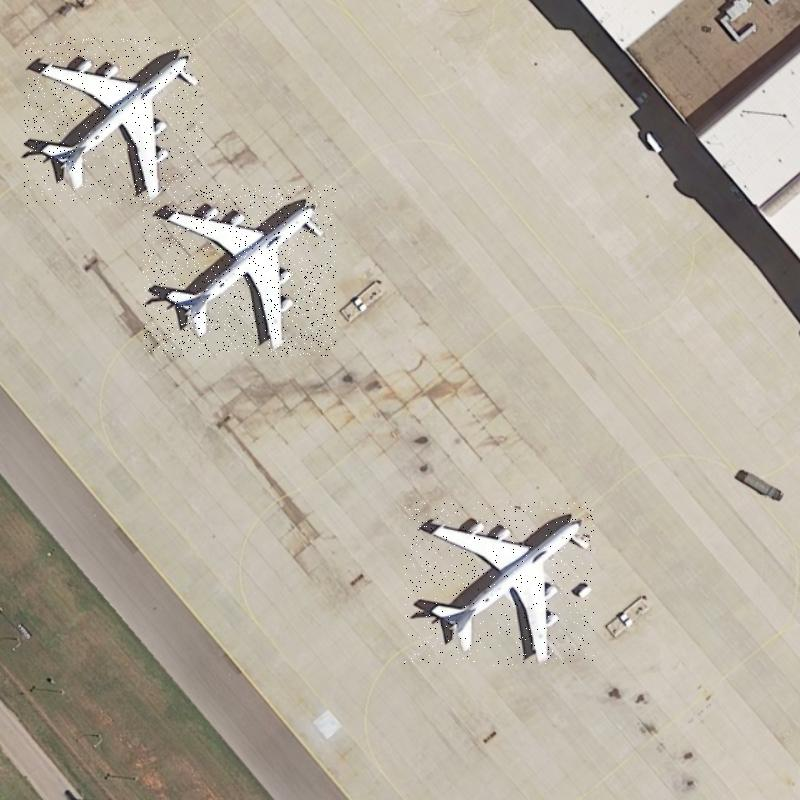A11: (143, 185, 336, 357), (404, 502, 594, 666), (24, 37, 203, 204)
